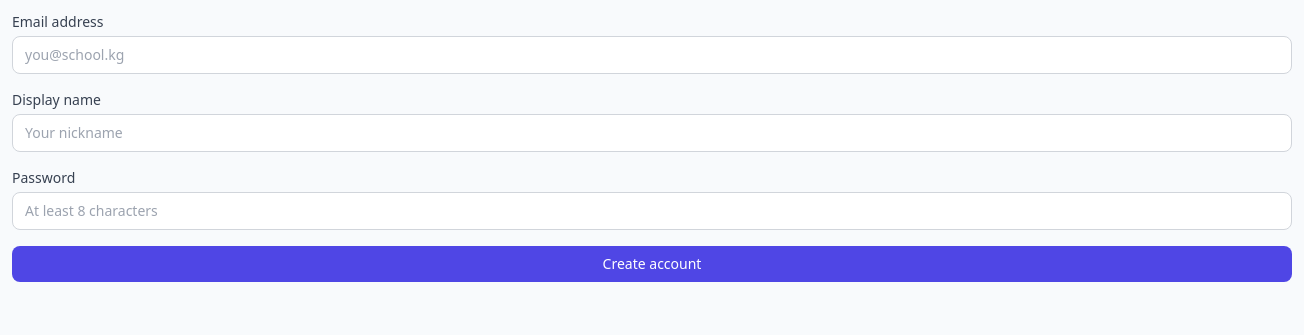
Test: RegisterForm › shows error when registration fails with AUTH_EMAIL_TAKEN
Type "taken@b.com" into the field labelled "Email address" at (652, 55), box [12,36,1292,74]
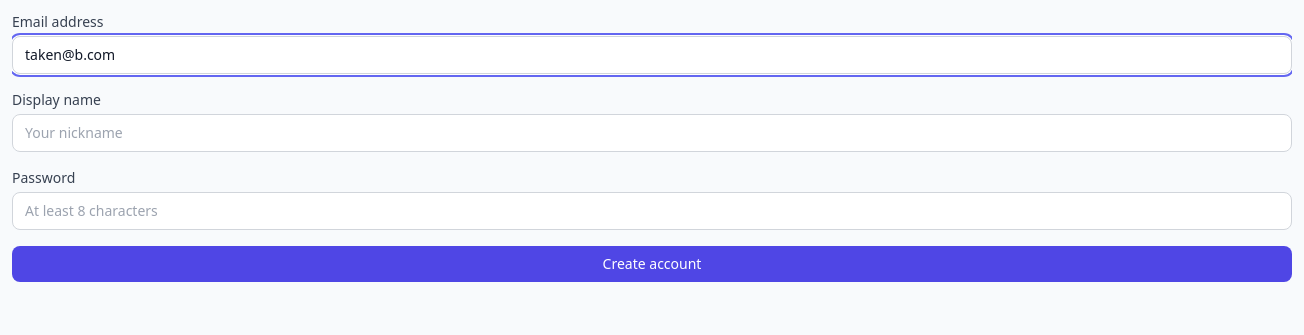
Type "bob" into the field labelled "Display name" at (652, 133), box [12,114,1292,152]
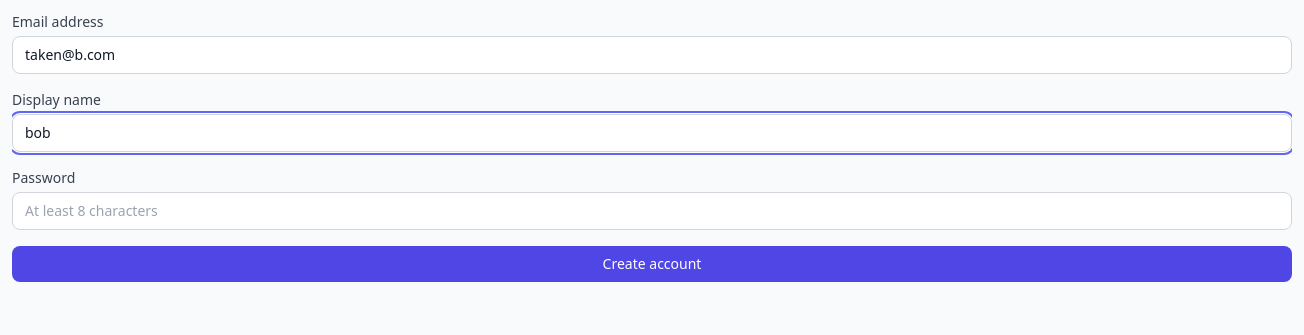
Type "password1" into the password field labelled "Password" at (652, 211), box [12,192,1292,230]
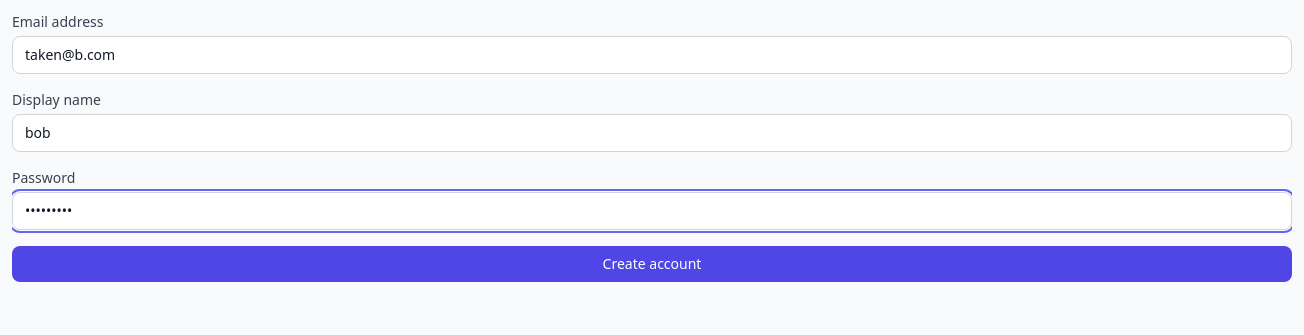
Click the button "Create account" at (652, 264), box [12,246,1292,282]
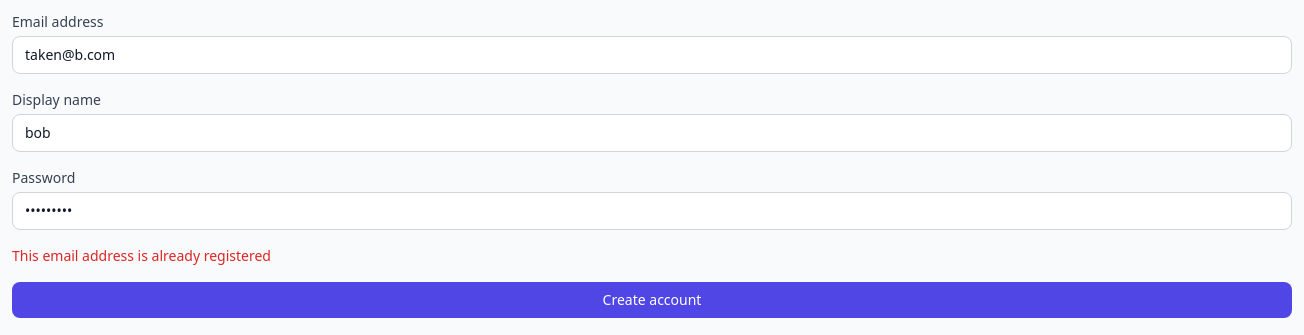
Expected: the message reads "This email address is already registered", [12,246,271,265]
